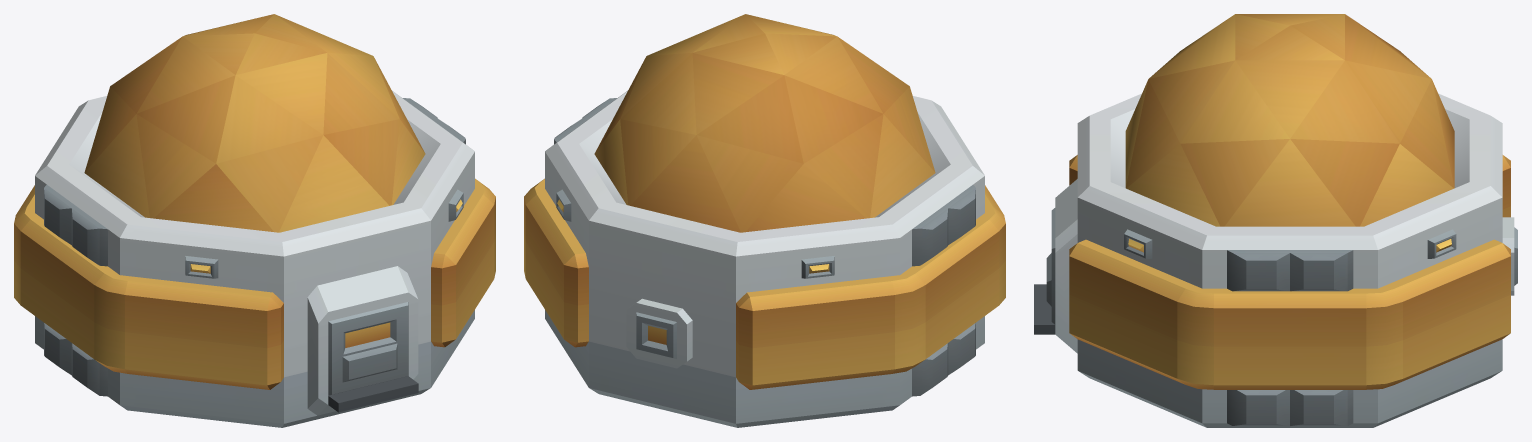
Rendered from basemodule_e.glb.
3 renders of one model, left to right at view 1: azimuth 30°, elevation 25°; view 2: azimuth 150°, elevation 25°; view 3: azimuth 270°, elevation 25°, orthographic. The views are drawn at different scales.
Visible parts, largest first — view 1: basemodule_E; view 2: basemodule_E; view 3: basemodule_E.
Part boxes in pixels (box(x1,y1,x2,y2)): basemodule_E: box(14, 14, 495, 427); basemodule_E: box(524, 14, 1005, 427); basemodule_E: box(1034, 14, 1517, 427).
Size of the model in its own units: 2.22 by 1.65 by 2.28.
1 material, 1 textured.
